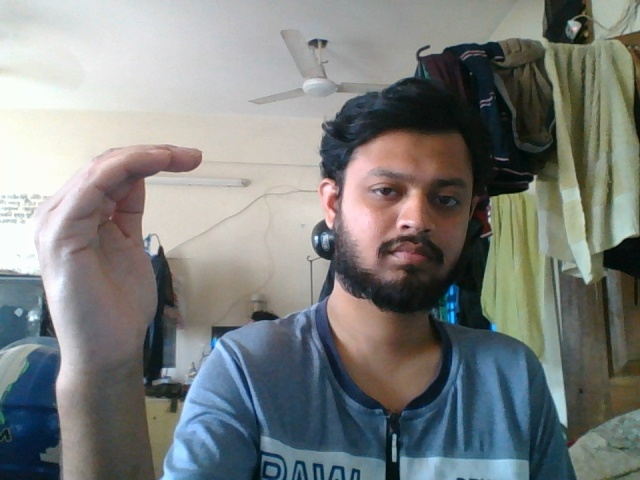ga: (25, 130, 229, 436)
